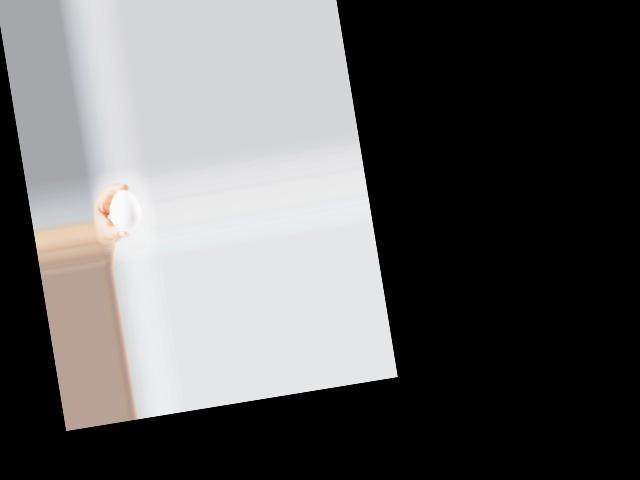egg: (106, 187, 143, 232)
